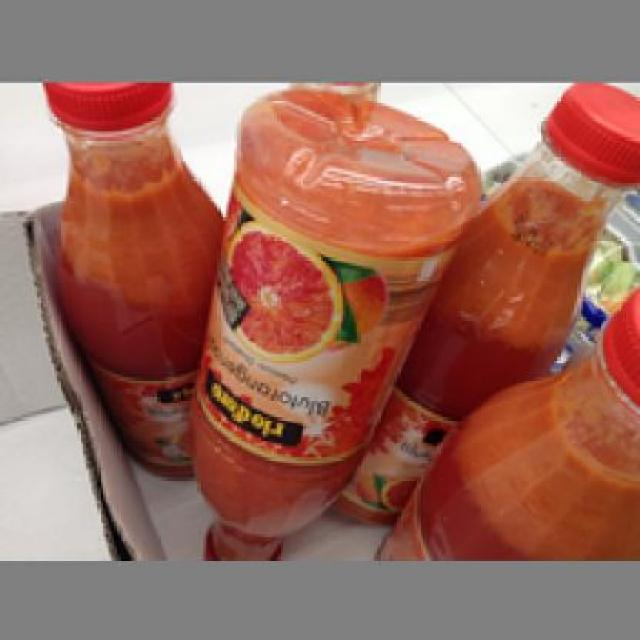Juice: (186, 89, 480, 552), (343, 82, 631, 518), (37, 80, 223, 477)
